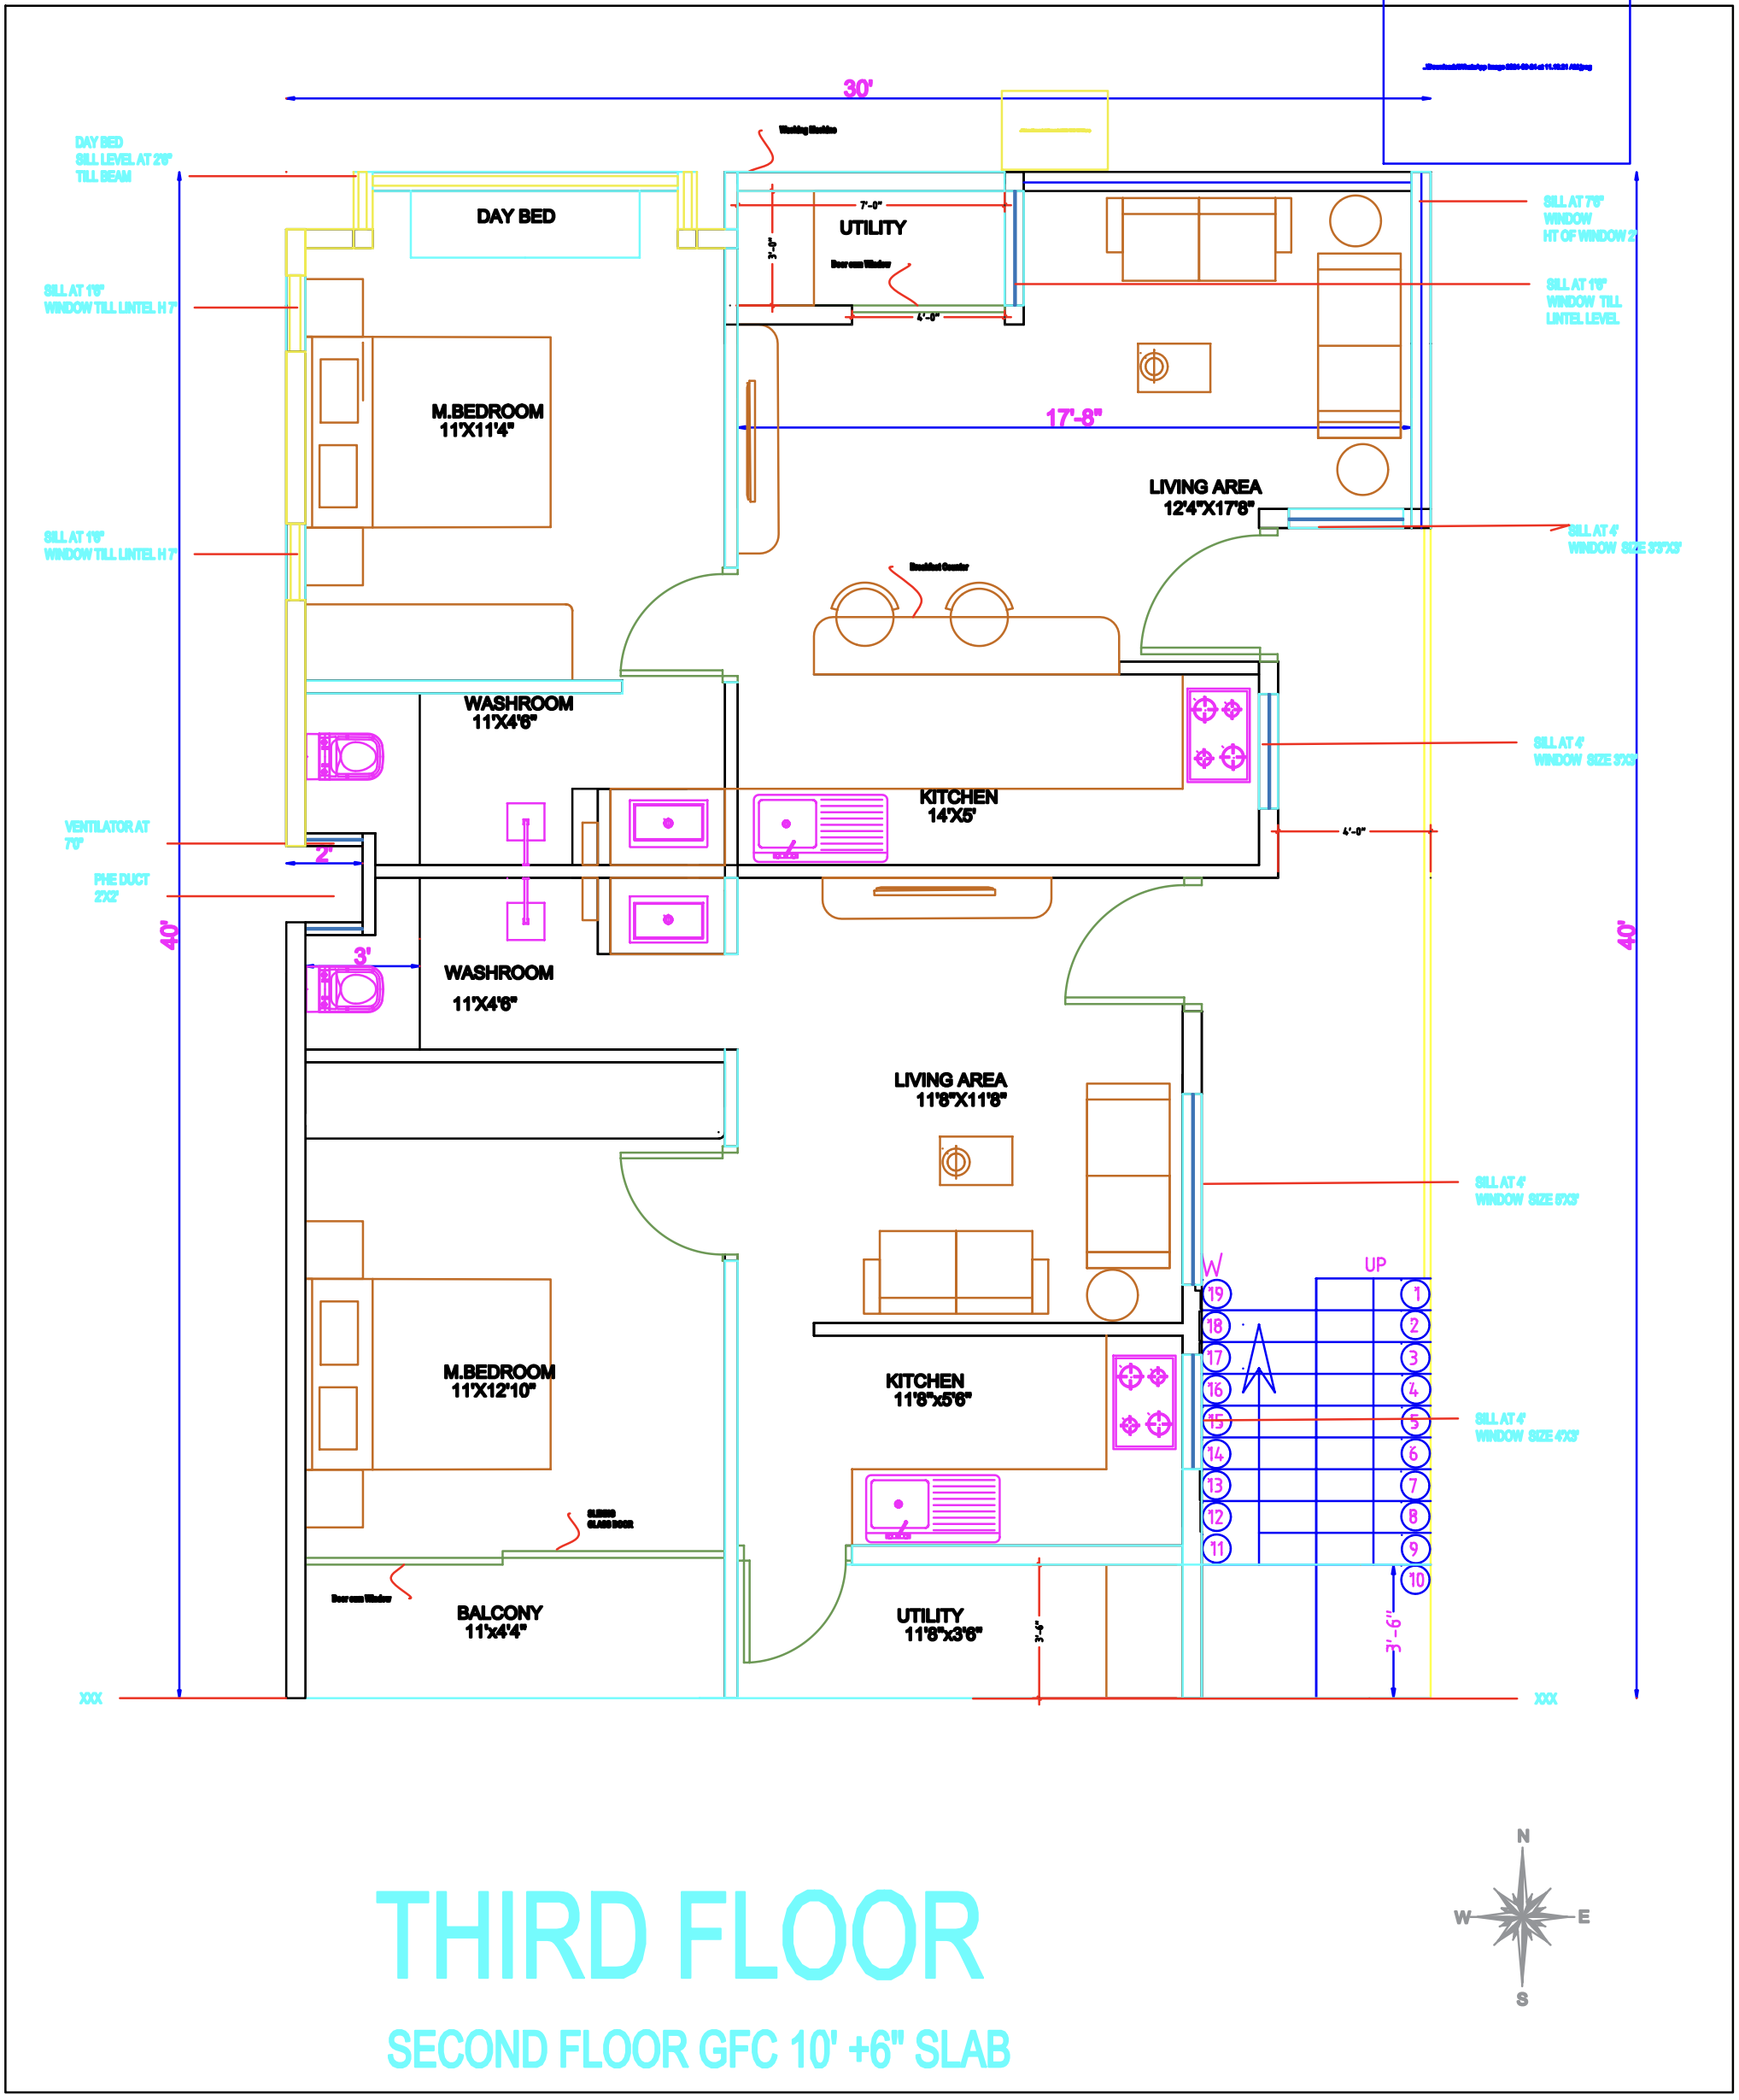door: (1137, 523, 1279, 672), (1057, 870, 1202, 1012), (614, 1144, 734, 1266), (616, 565, 733, 684), (740, 1552, 858, 1669)
